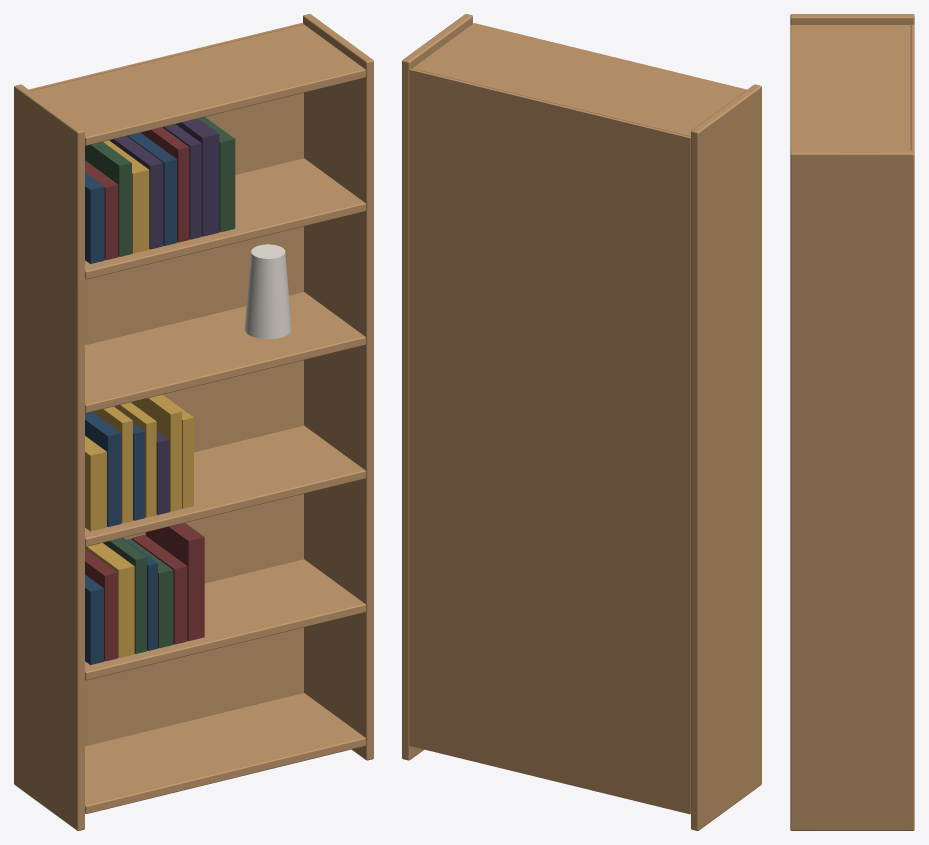
File: shelf.glb
3 renders of one model, left to right at view 1: azimuth 30°, elevation 25°; view 2: azimuth 150°, elevation 25°; view 3: azimuth 270°, elevation 25°, orthographic. The views are drawn at different scales.
Size of the model in its own units: 0.8 by 1.8 by 0.3.
